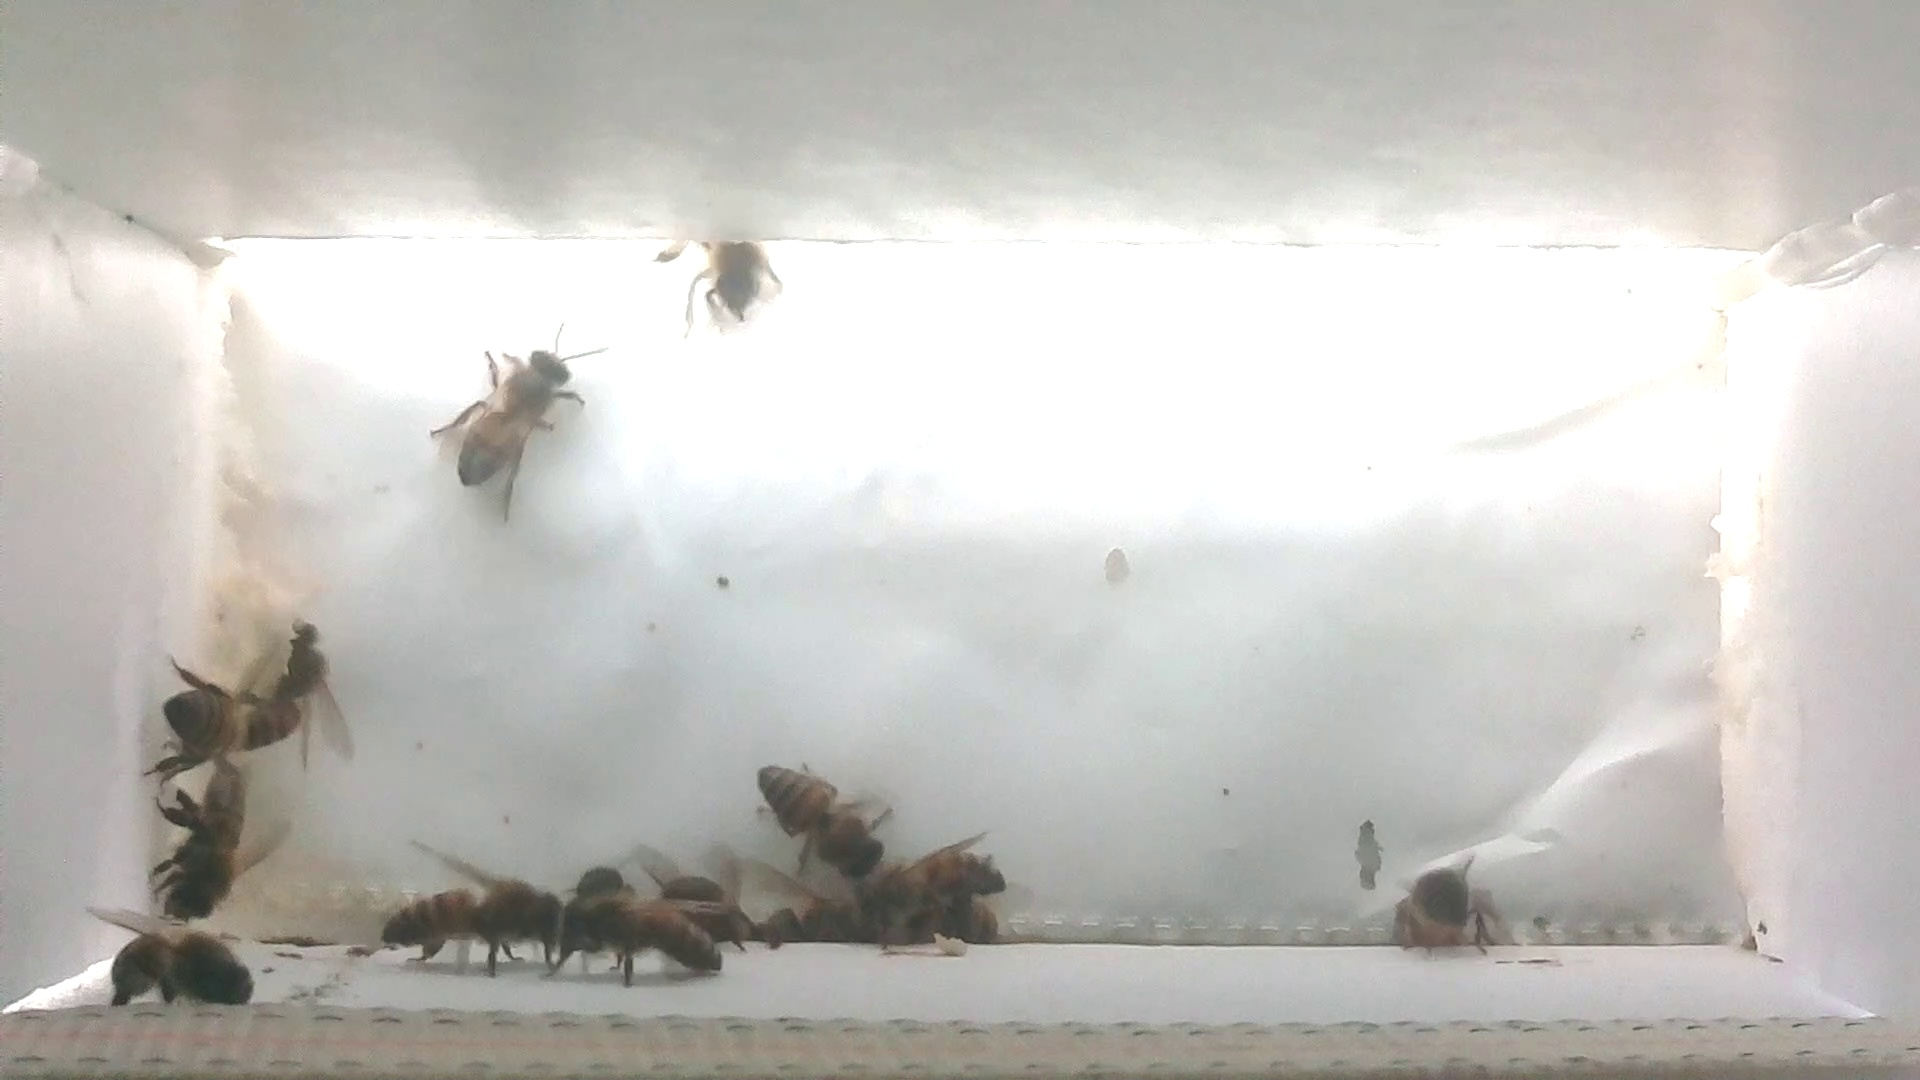bee: (423, 315, 600, 549), (353, 815, 568, 986), (728, 744, 901, 903), (224, 583, 356, 781), (142, 753, 281, 928), (538, 873, 723, 1004), (86, 890, 266, 1015), (1358, 831, 1515, 971), (135, 641, 256, 793), (844, 865, 1025, 967), (663, 222, 799, 349), (864, 825, 1021, 905)
